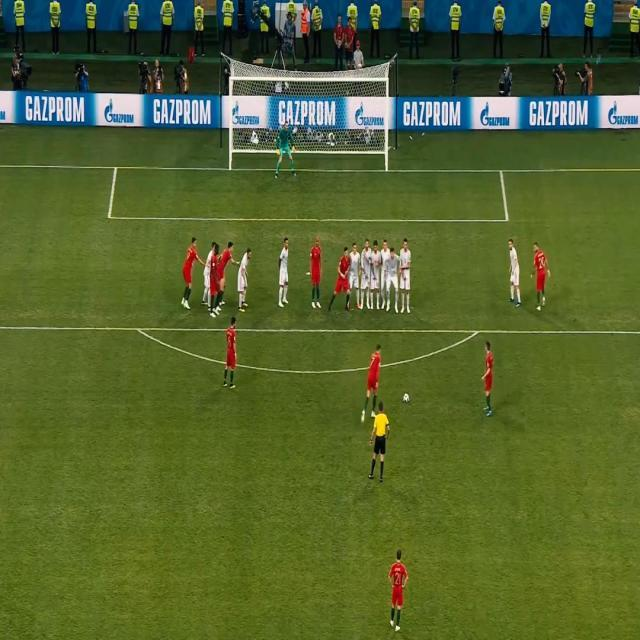ball: (402, 391, 411, 404)
goalkeeper: (272, 114, 300, 182)
player: (386, 546, 410, 634), (209, 239, 234, 320), (179, 235, 204, 313), (360, 343, 385, 421), (329, 245, 353, 314), (531, 239, 553, 312), (506, 233, 524, 313), (204, 239, 222, 315), (222, 315, 239, 391), (277, 235, 293, 311), (480, 340, 496, 416), (235, 247, 253, 313), (399, 237, 413, 316), (203, 236, 216, 316), (310, 235, 323, 310), (386, 248, 401, 313), (360, 238, 372, 314), (379, 239, 391, 313), (349, 243, 361, 313), (370, 239, 381, 310)
referee: (369, 400, 392, 486)
